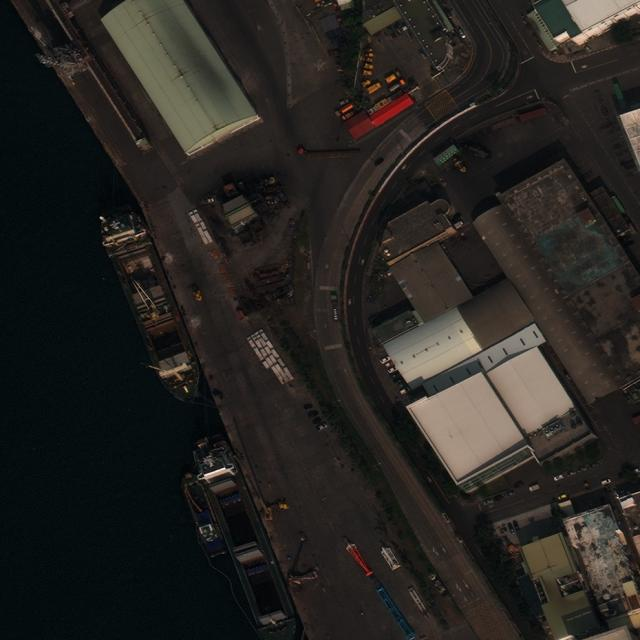Container Ship: (92, 200, 213, 412), (191, 435, 301, 640), (178, 471, 228, 562)
